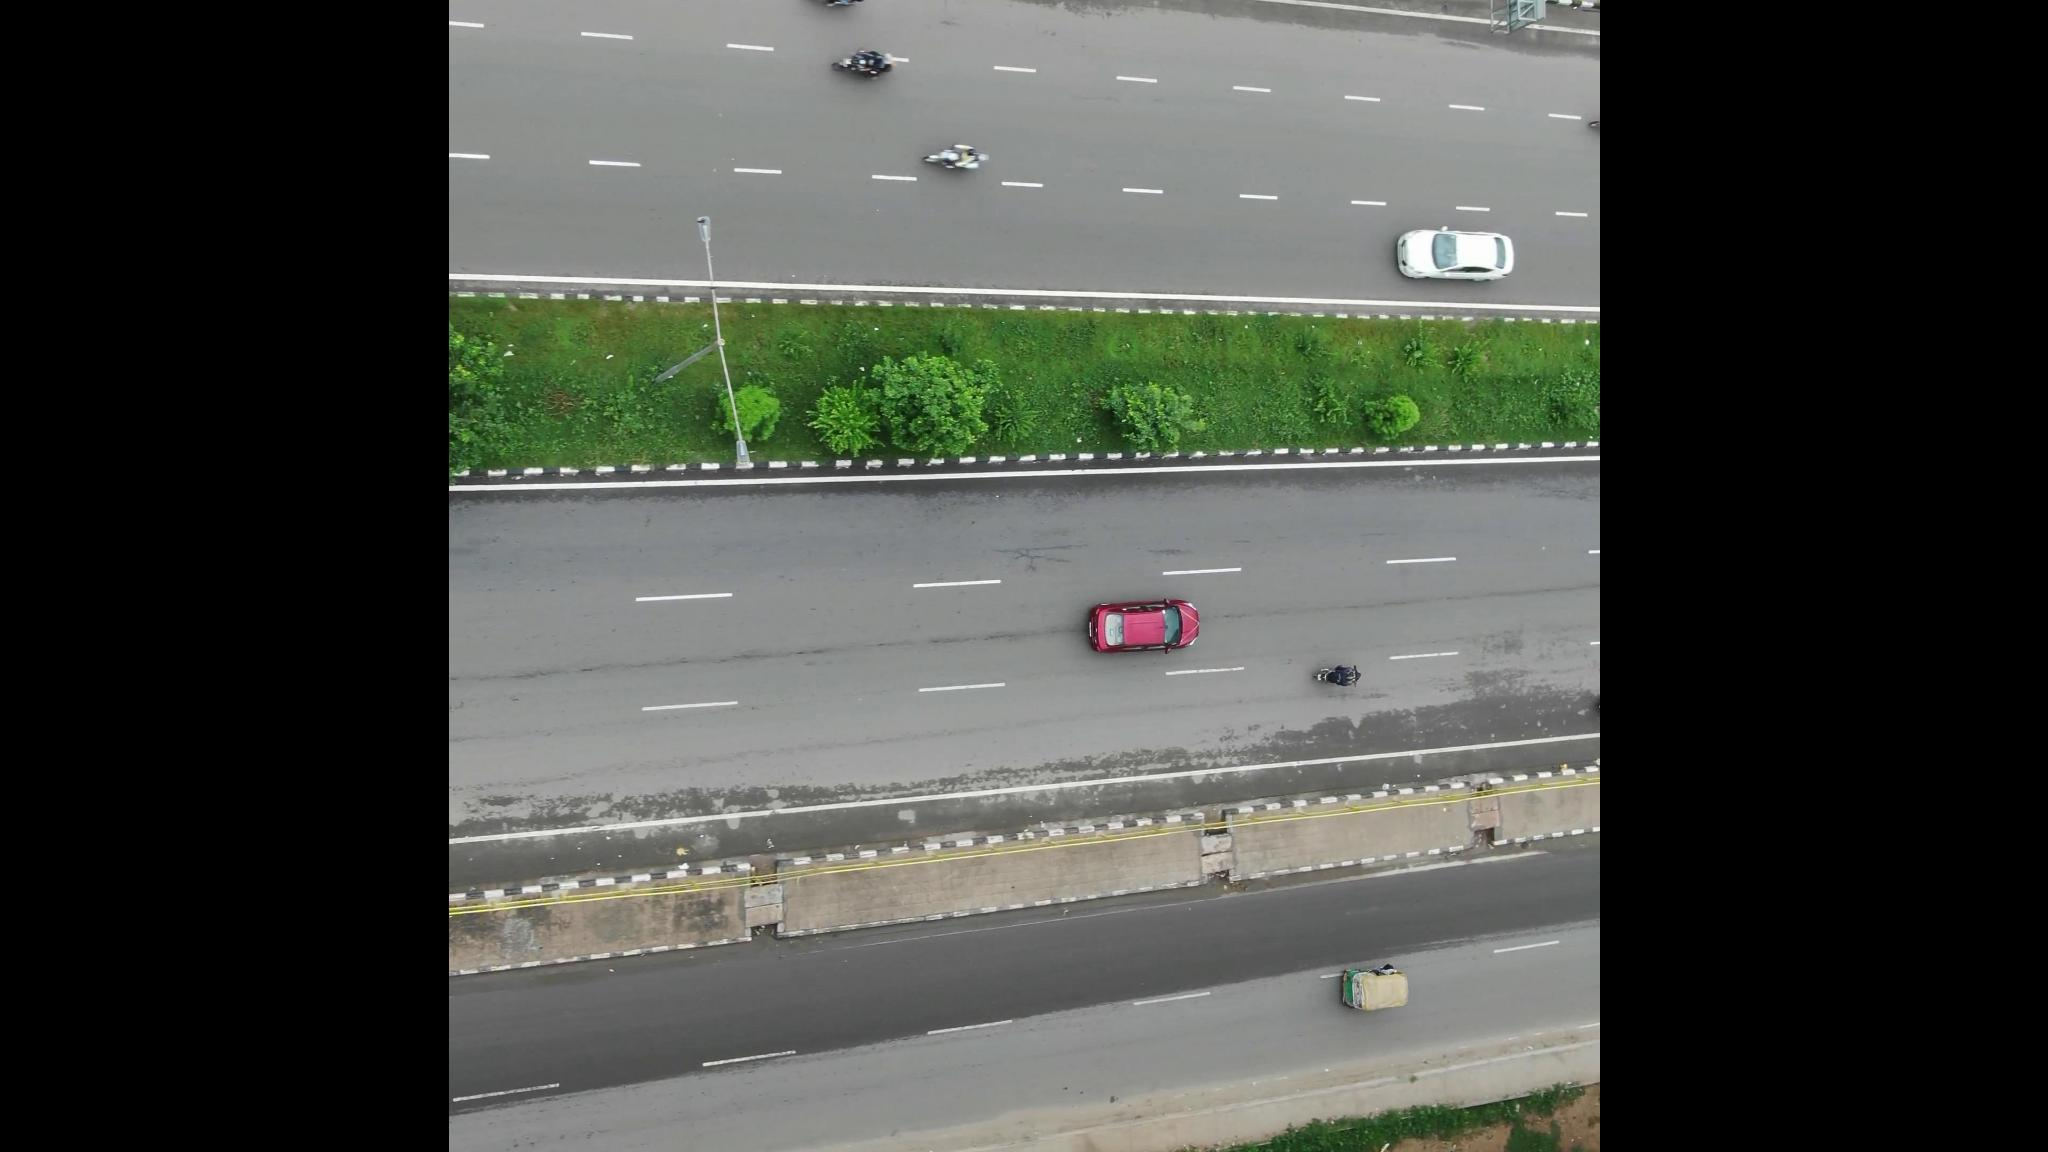Cracks: (954, 516, 1118, 587)
